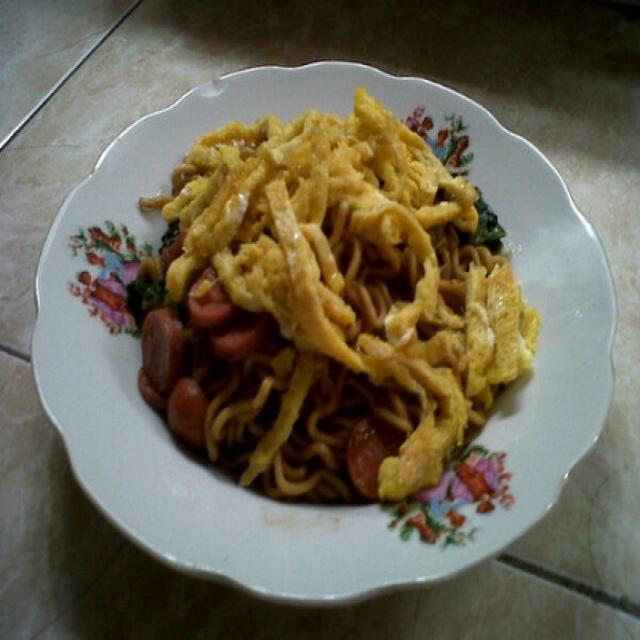面条主食: (31, 50, 616, 591)
